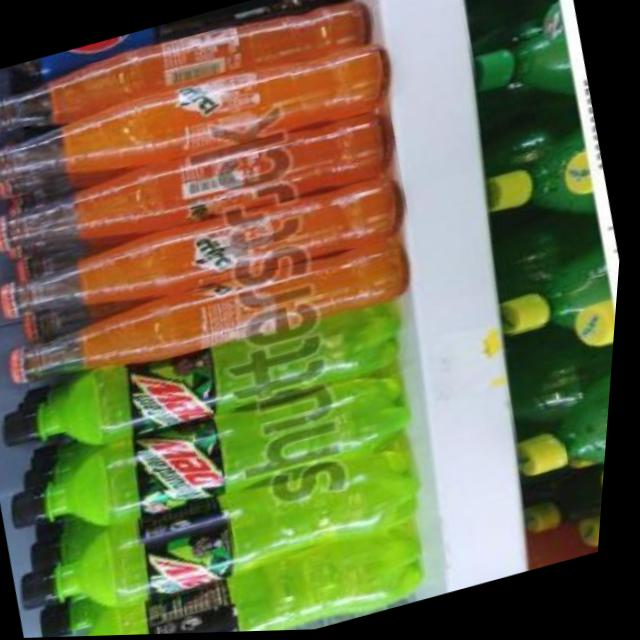Drinks: (2, 366, 429, 555), (14, 447, 440, 636), (0, 285, 420, 474), (33, 530, 444, 638), (0, 0, 357, 116)
